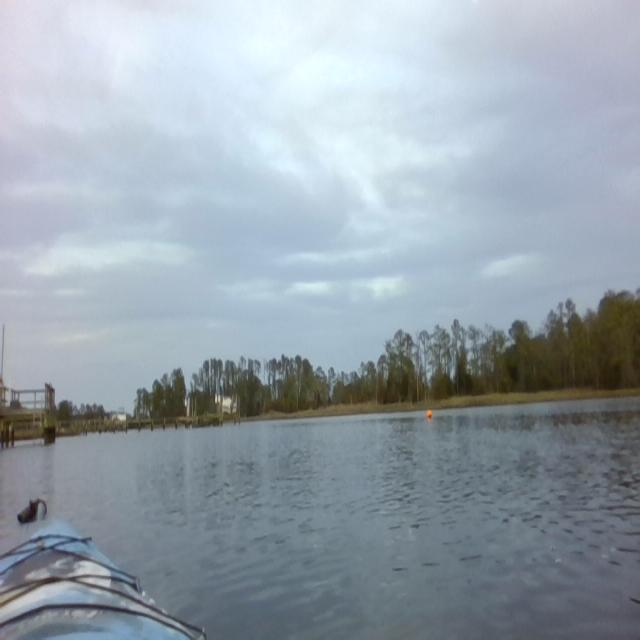Buoy: (425, 407, 434, 421)
